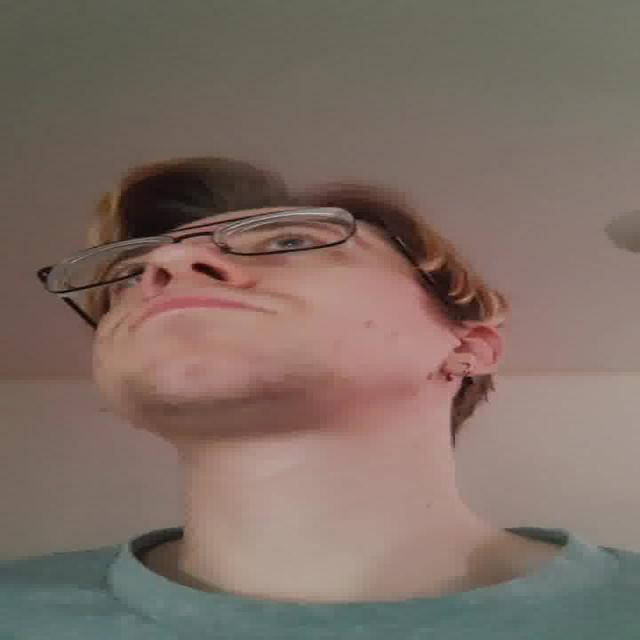earlobe: (439, 360, 484, 380)
eye: (255, 234, 330, 254), (105, 264, 138, 294)
nose: (146, 275, 238, 303)
wholeear: (444, 321, 510, 379)
